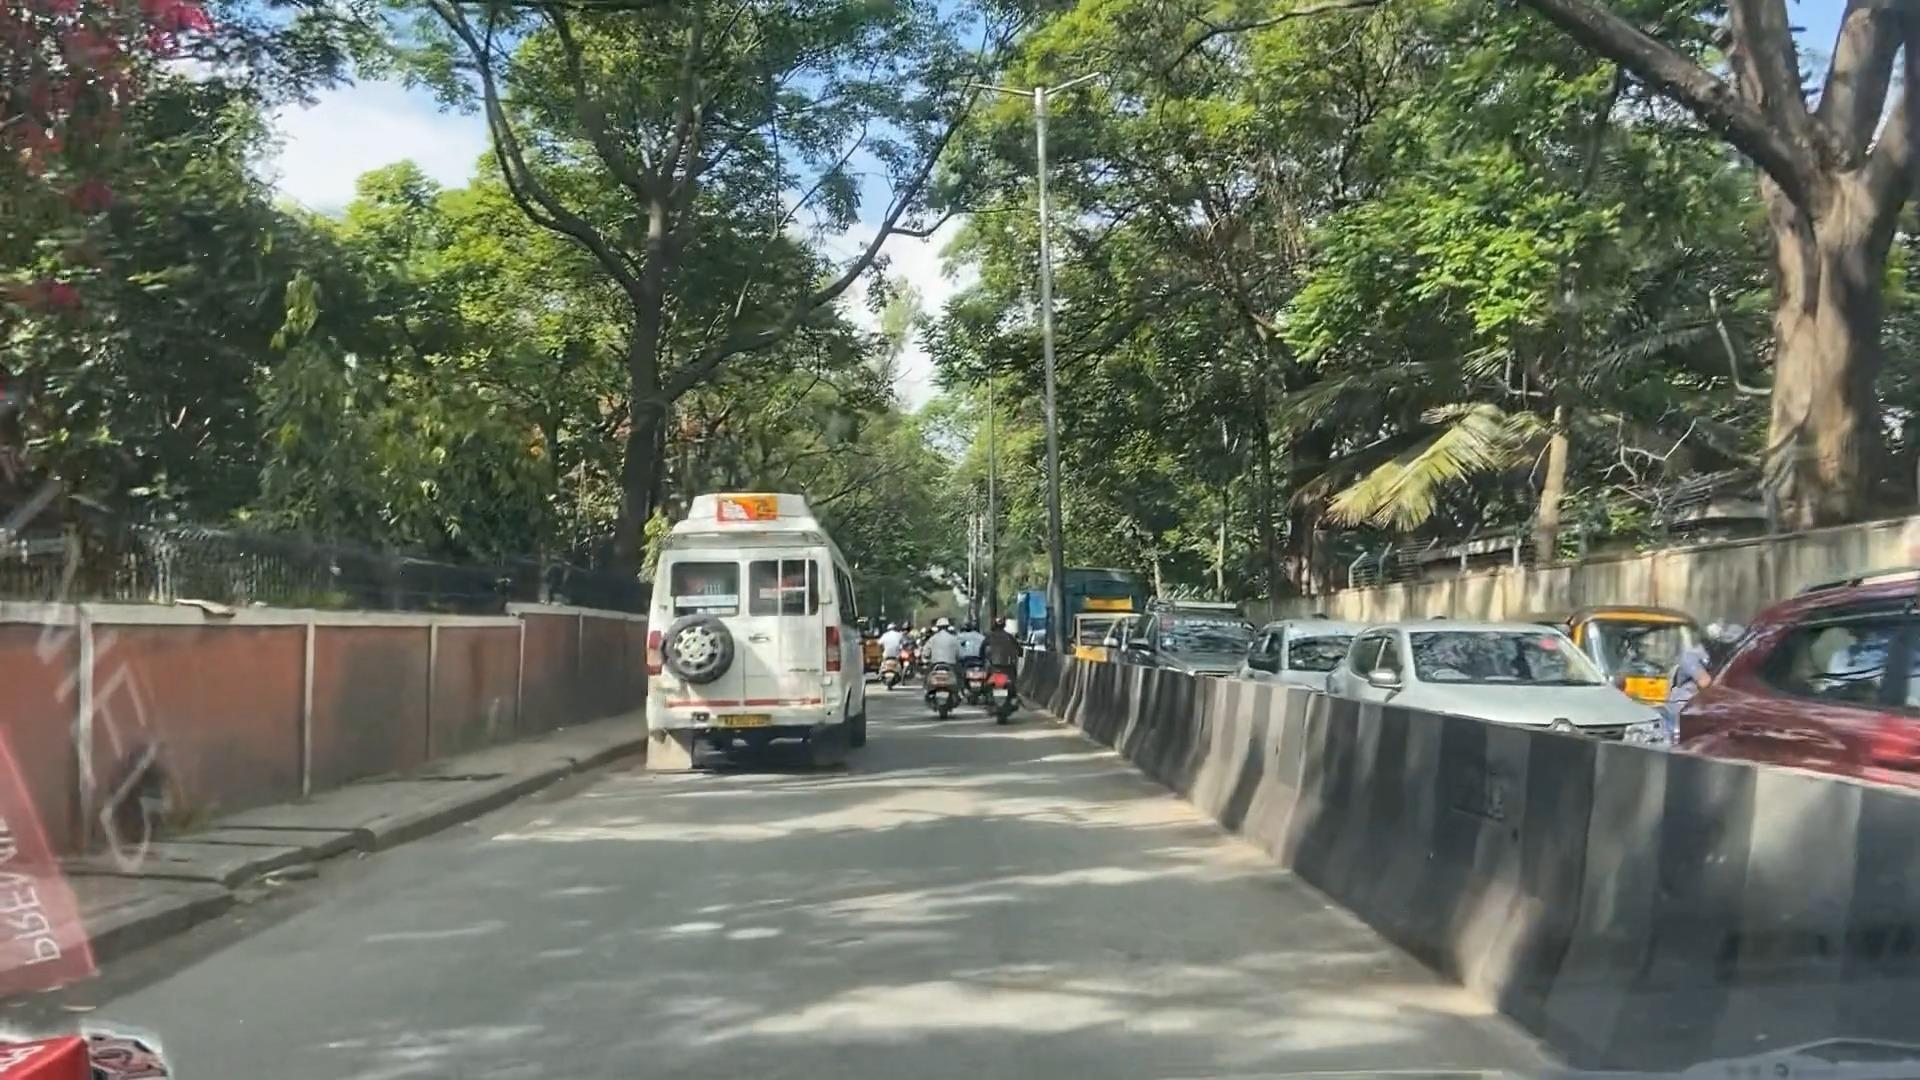HMV: (644, 493, 848, 770)
LMV: (977, 611, 1023, 727), (920, 613, 957, 723)
